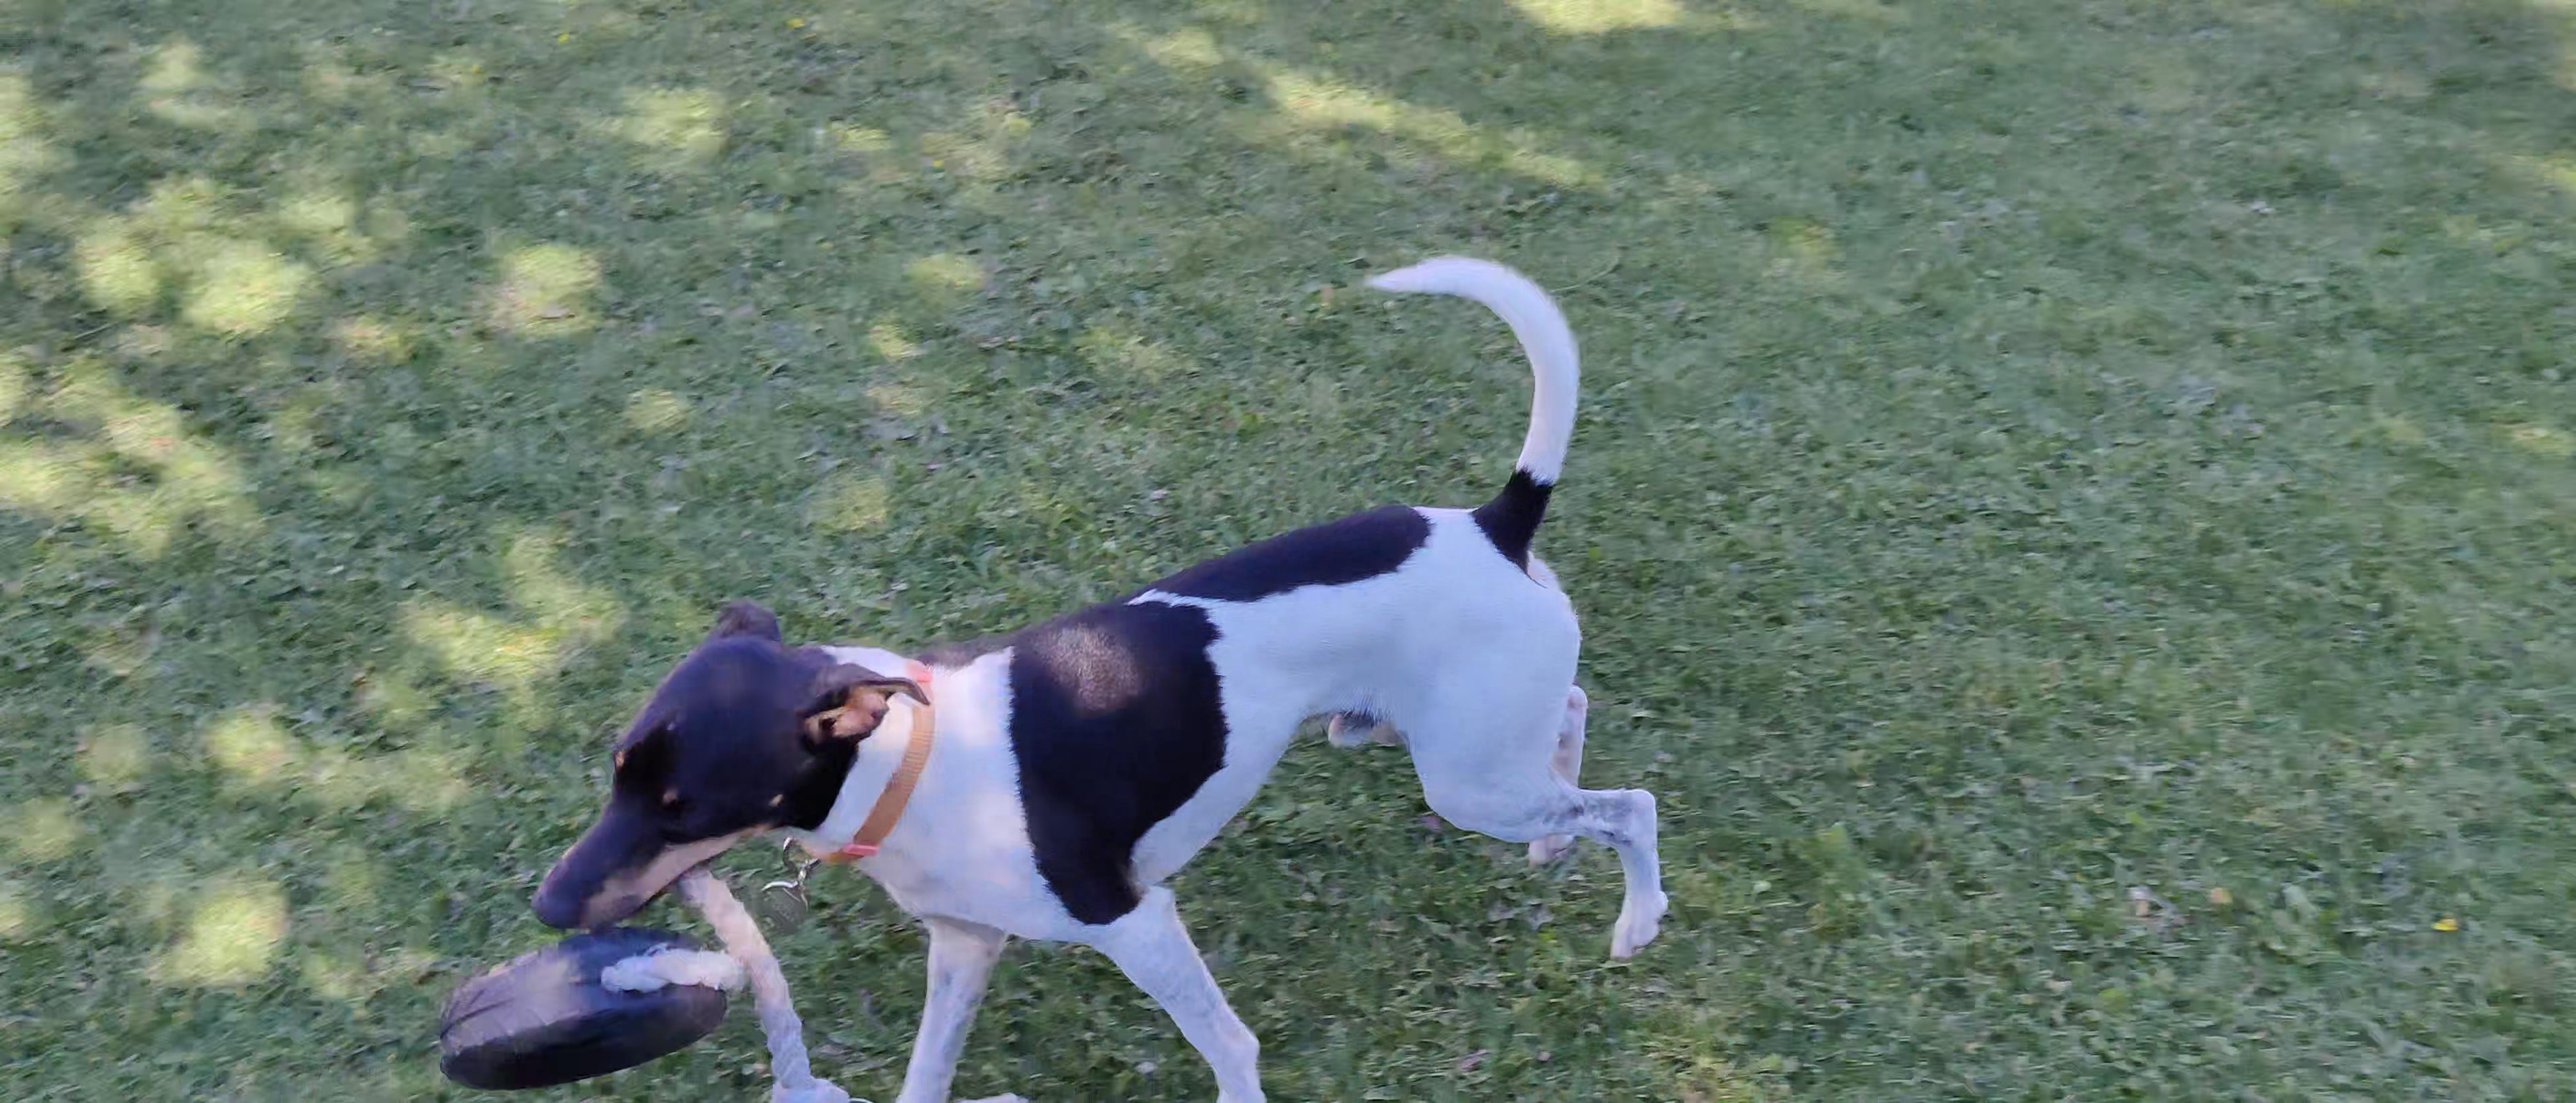Dog: (524, 240, 1679, 1103)
